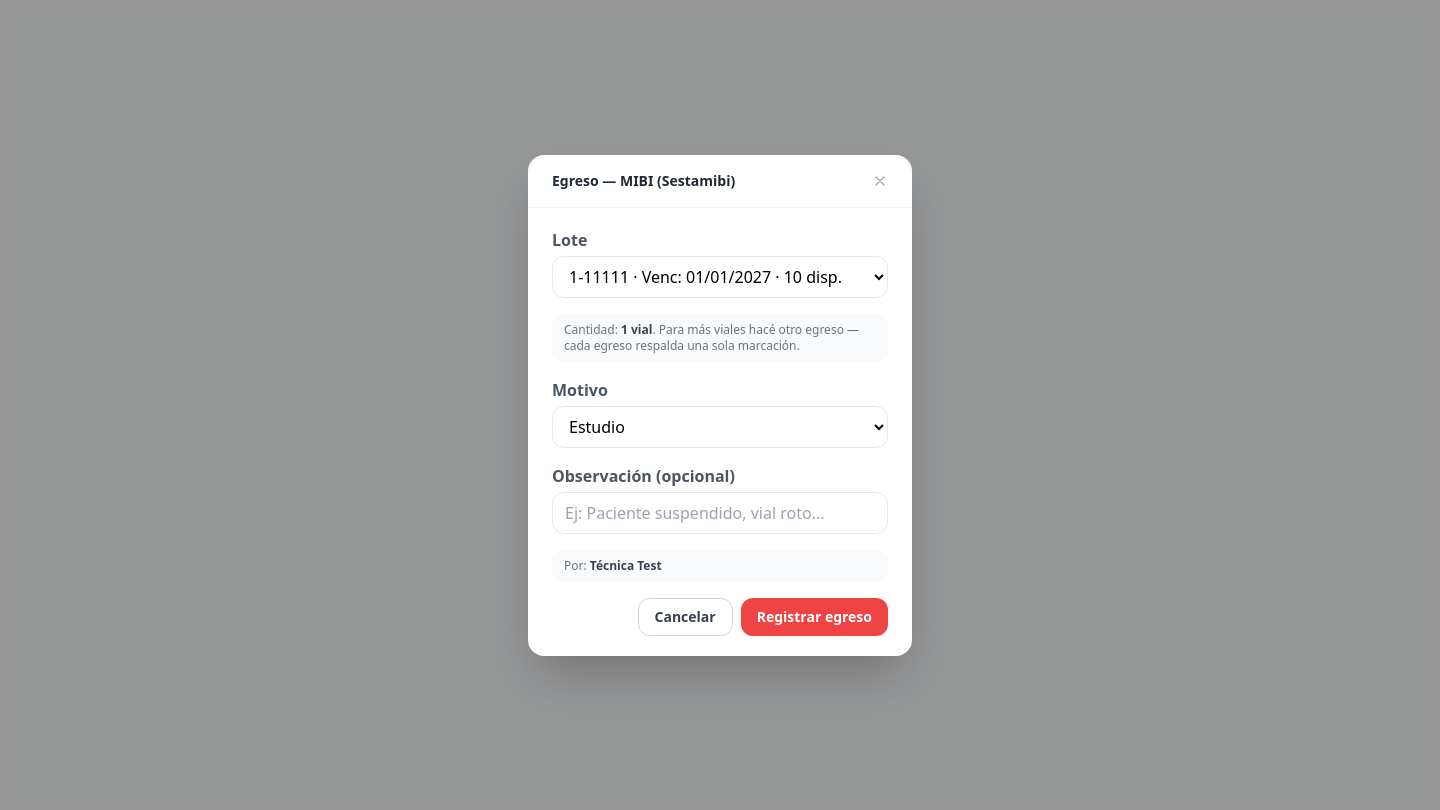
motivo de descarte (Vencimiento) -- el input de cantidad reaparece, editable
Select "Vencimiento" in the dropdown below "Motivo" at (720, 426), box left=552, top=406, right=888, bottom=448
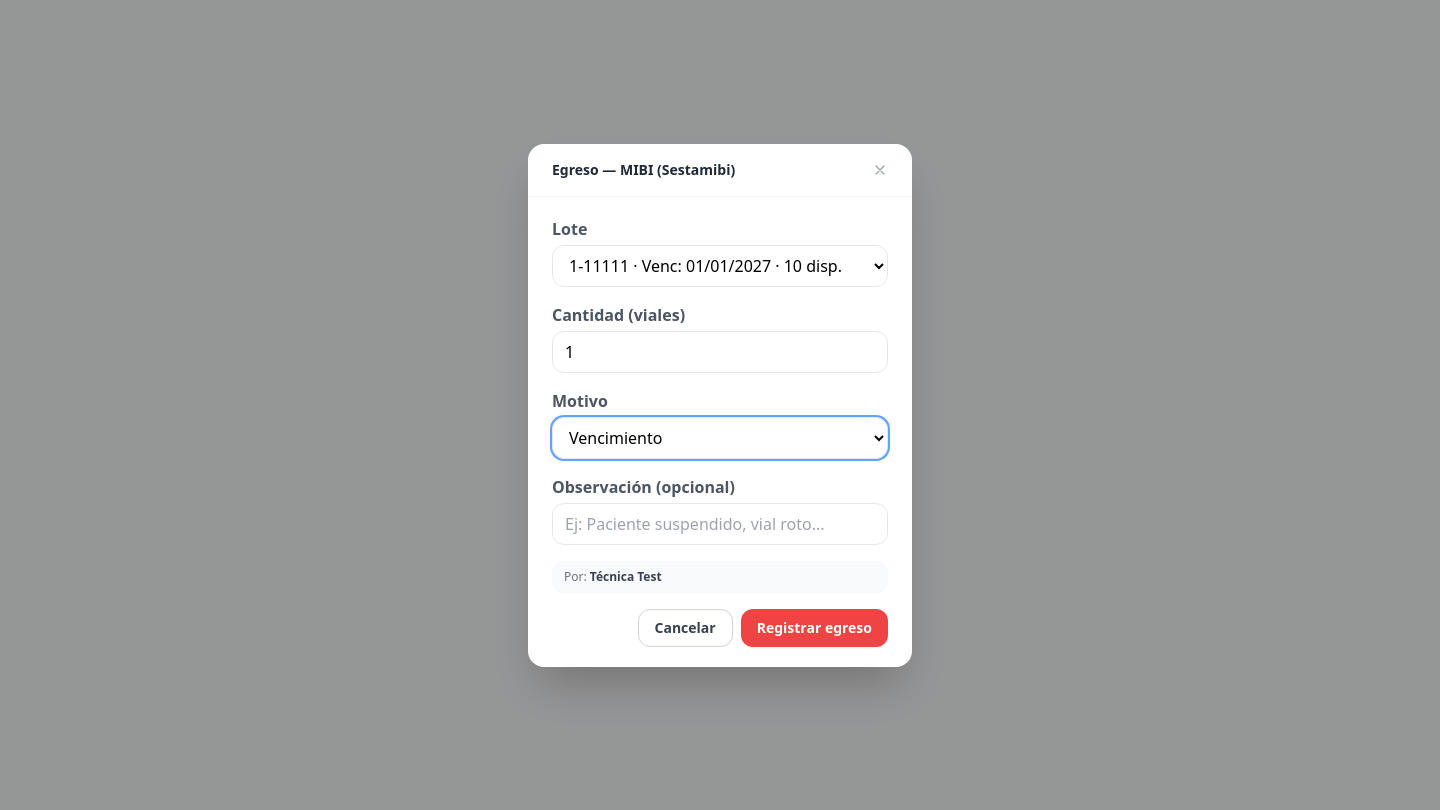
Expected: the text "Cantidad (viales)" is shown, left=552, top=304, right=685, bottom=326
Expected: the text "1 vial" is gone
